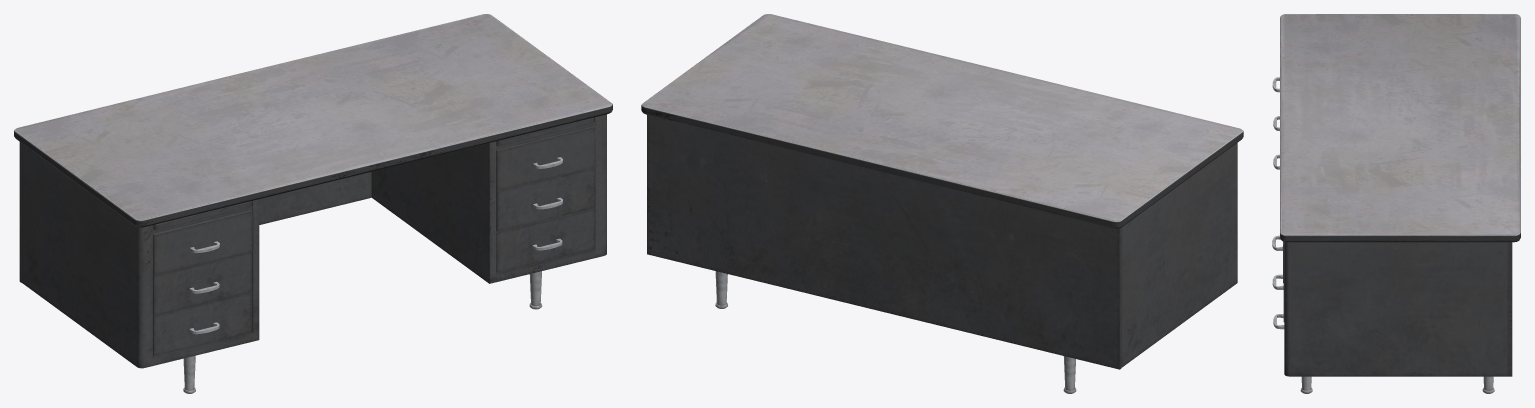
File: metal_office_desk.glb
3 renders of one model, left to right at view 1: azimuth 30°, elevation 25°; view 2: azimuth 150°, elevation 25°; view 3: azimuth 270°, elevation 25°, orthographic. The views are drawn at different scales.
Visible parts, largest first — view 1: metal_office_desk_drawer_06; view 2: metal_office_desk_drawer_06; view 3: metal_office_desk_drawer_06.
Boxes of the visible parts, x1,y1,x2,y2 form: metal_office_desk_drawer_06: (14,14,612,393); metal_office_desk_drawer_06: (641,14,1243,393); metal_office_desk_drawer_06: (1272,14,1520,393).
Bounding box in the file's own units: 2 × 0.7874 × 0.9471.
1 material, 1 textured.
